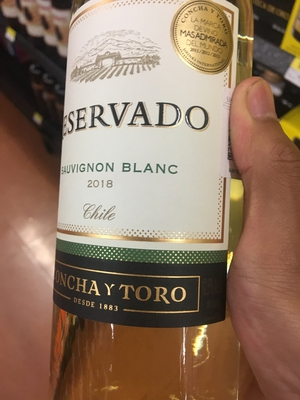reservado sauvignon blanc: (47, 5, 253, 399)
